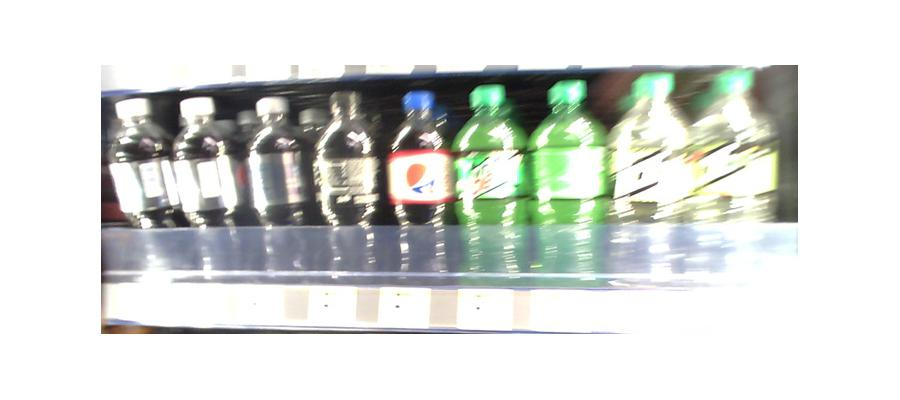bottle: (526, 78, 608, 282), (608, 69, 681, 276), (455, 81, 526, 283), (171, 92, 239, 280), (387, 88, 452, 281), (313, 90, 378, 279), (105, 99, 180, 254), (247, 99, 309, 280)
